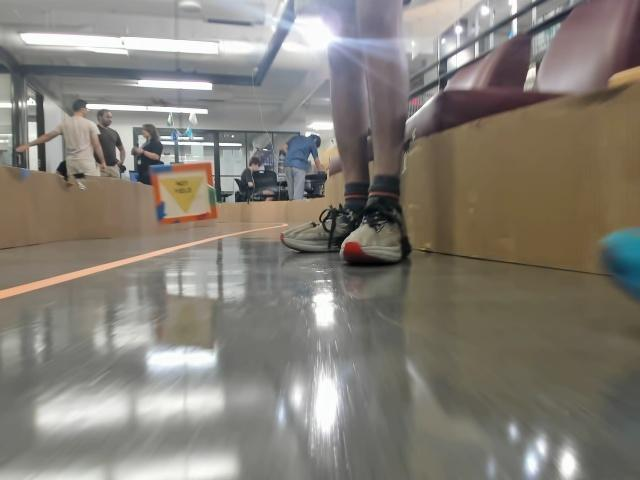Do Not Yield: (160, 180, 200, 213)
